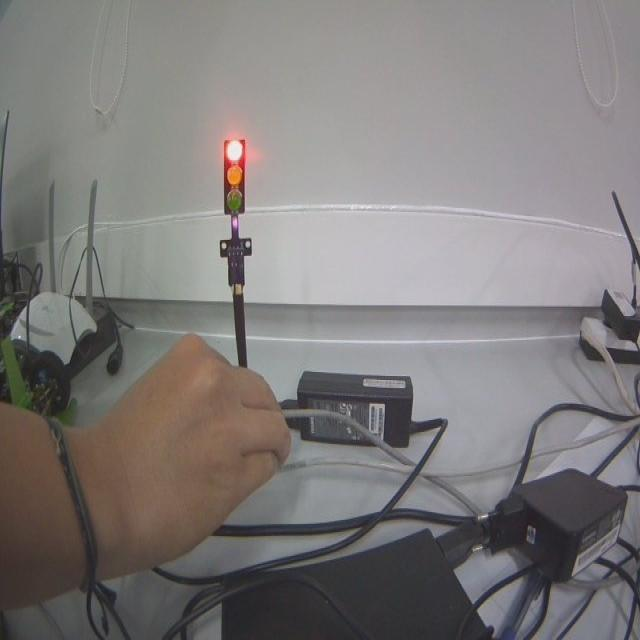Lampu Merah: (221, 137, 245, 216)
